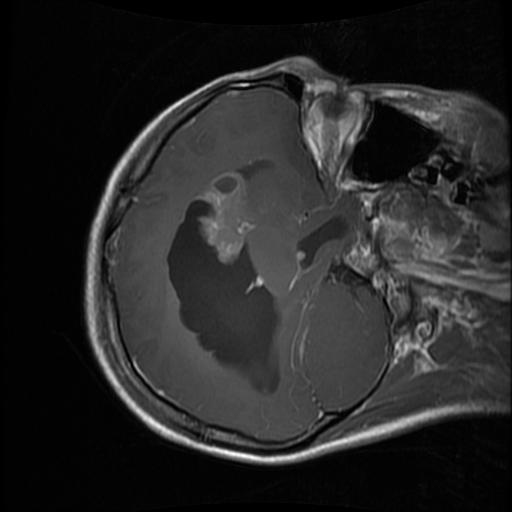glioma: (163, 159, 277, 395)
